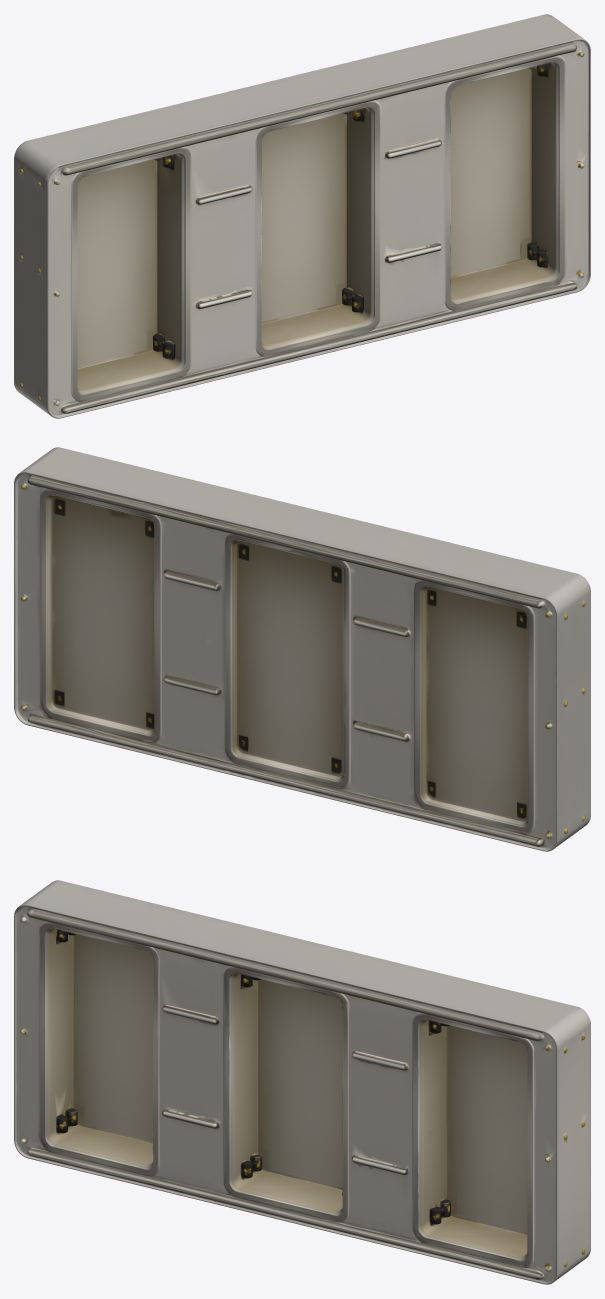
File: liner-v2.glb
3 renders of one model, top to bottom at view 1: azimuth 30°, elevation 25°; view 2: azimuth 150°, elevation 25°; view 3: azimuth 330°, elevation 25°, orthographic.
Parts seen in each view (by area): view 1: node_0; view 2: node_0; view 3: node_0.
Boxes of the visible parts, x1,y1,x2,y2 form: node_0: [14, 14, 590, 418]; node_0: [14, 447, 590, 851]; node_0: [14, 880, 590, 1284].
Bounding box in the file's own units: 1.11 × 0.4932 × 0.1367.
Materials: 1 (1 with a texture image).
